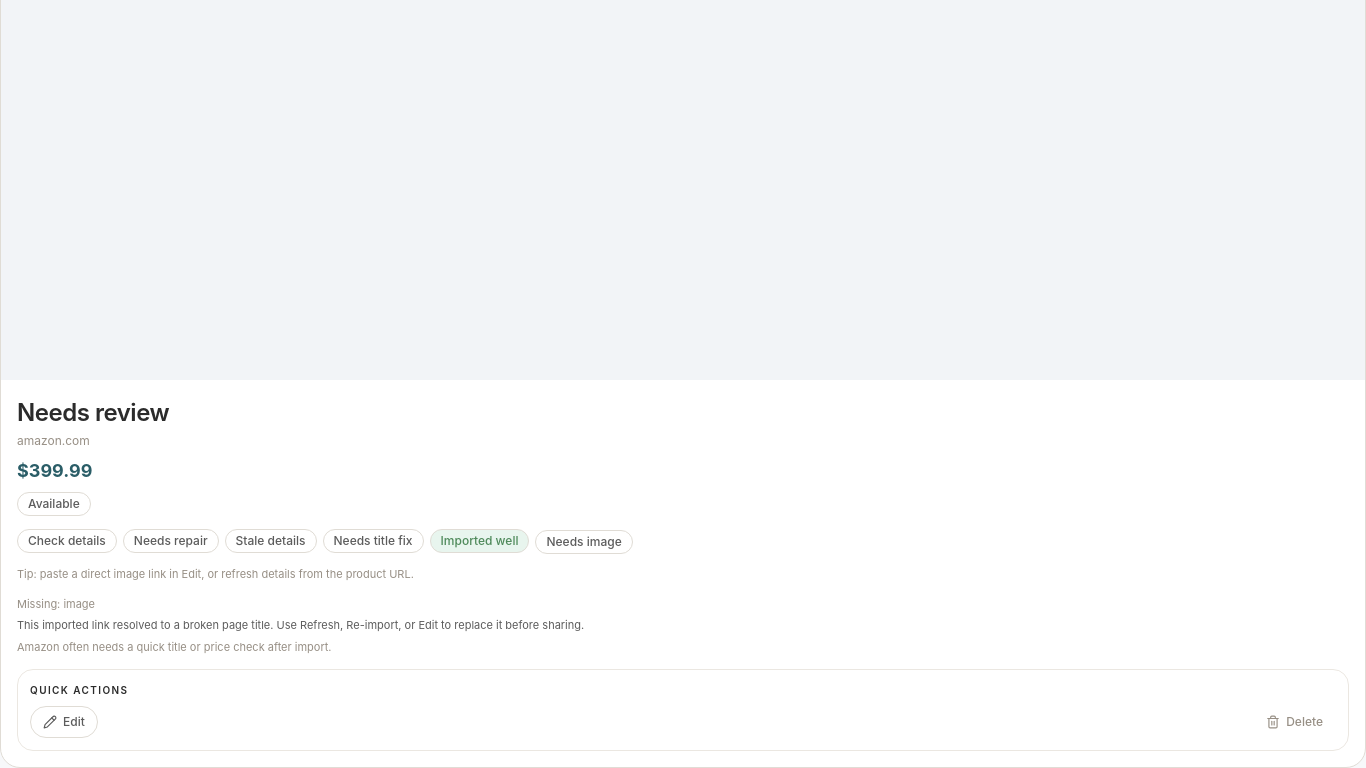
Test case: RegistryItemCard › keeps owner cleanup actions available when an imported gift link needs review
Later steps or results of the test are not shown.
(page scrolled)
Click the button "Edit" at (64, 722), box [30,706,98,738]
Click the button "Delete" at (1295, 722), box [1253,706,1336,738]
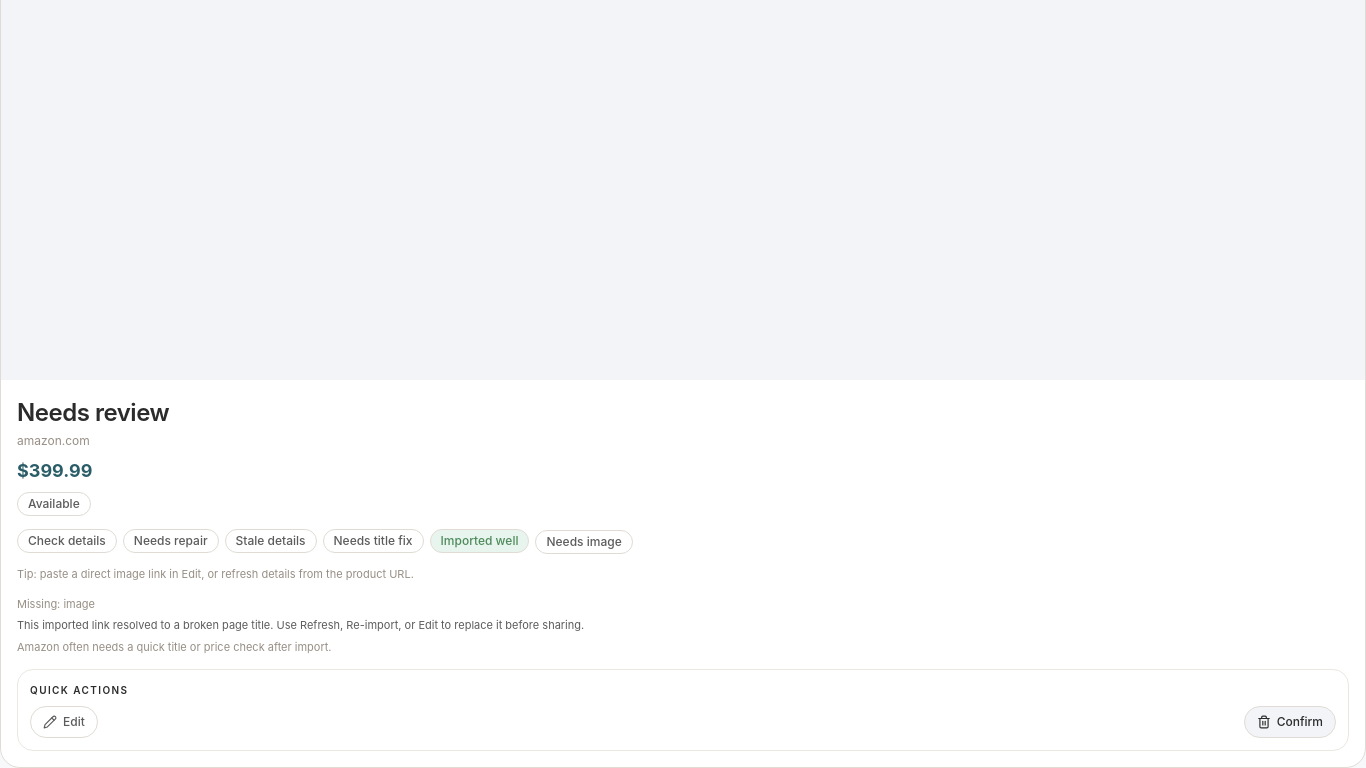
Result: the button "Confirm" is shown at [1244,706,1336,738]
